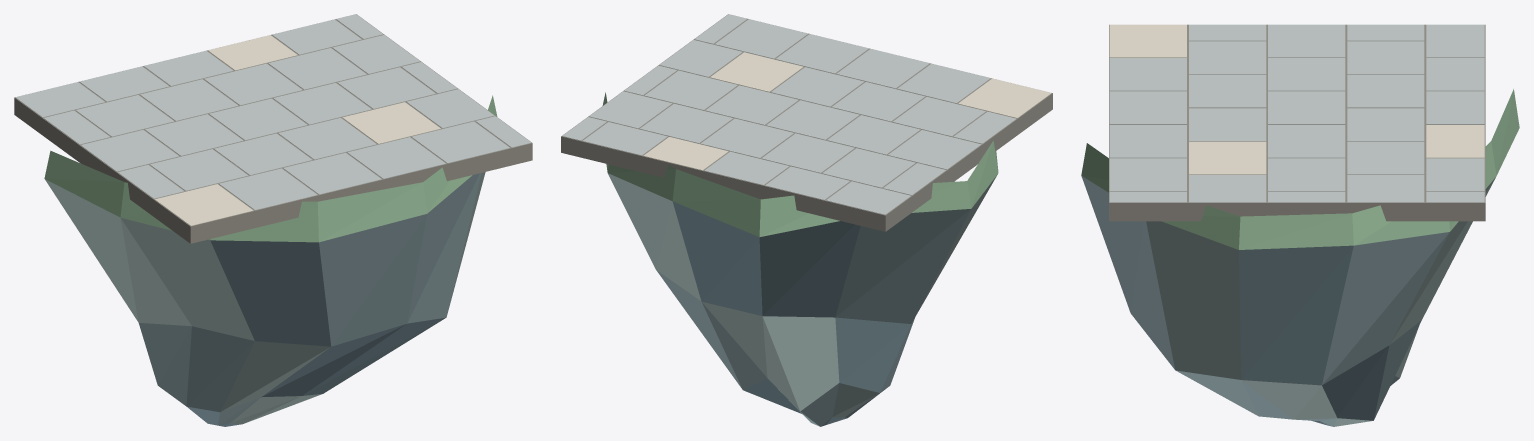
The model's file is FloatingIsland21.glb.
3 renders of one model, left to right at view 1: azimuth 30°, elevation 25°; view 2: azimuth 150°, elevation 25°; view 3: azimuth 270°, elevation 25°, orthographic. The views are drawn at different scales.
Visible parts, largest first — view 1: FloatingIsland21; view 2: FloatingIsland21; view 3: FloatingIsland21.
Part boxes in pixels (bbox=[...]): FloatingIsland21: bbox=[14, 14, 532, 426]; FloatingIsland21: bbox=[561, 14, 1052, 426]; FloatingIsland21: bbox=[1081, 24, 1519, 426].
Size of the model in its own units: 6.53 by 4.83 by 5.82.
